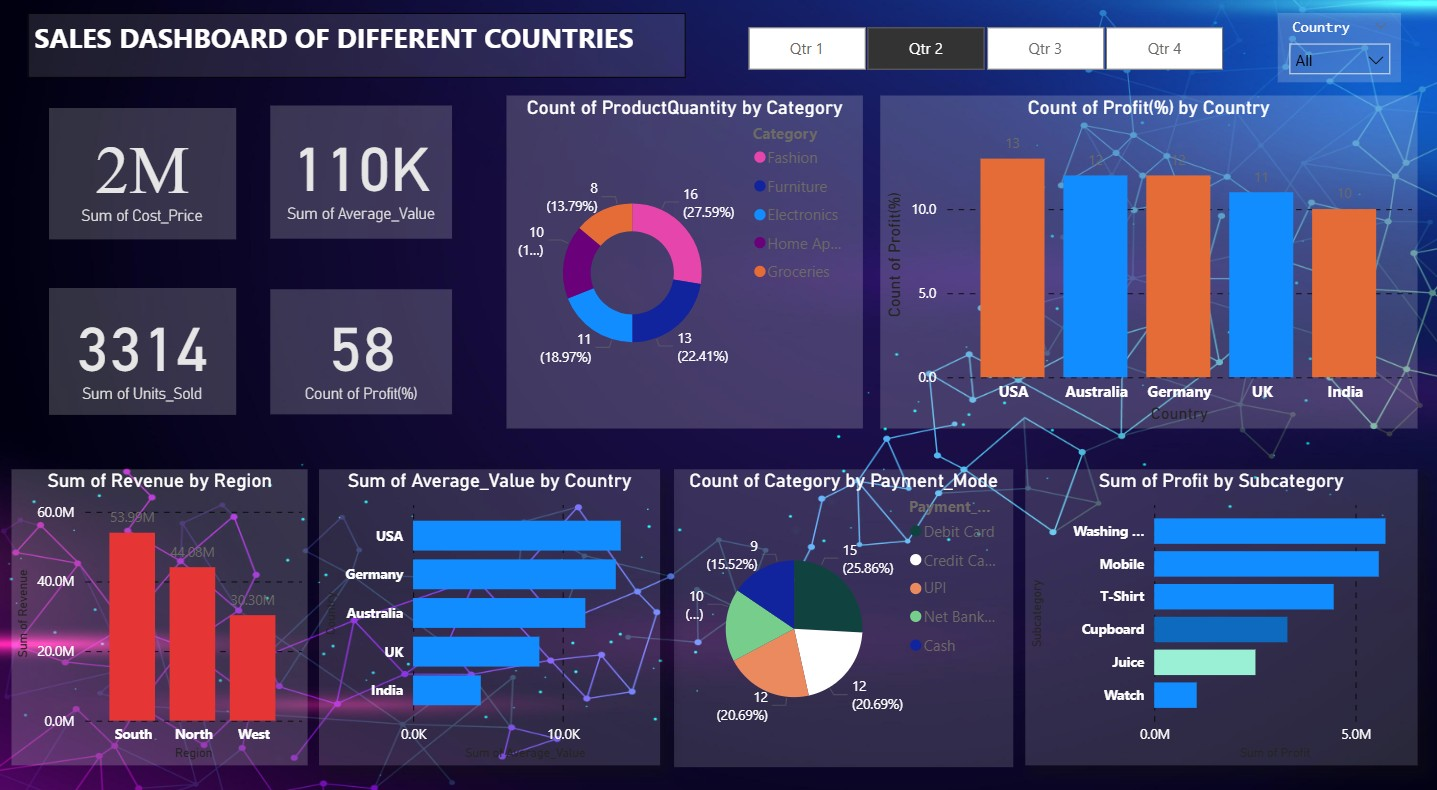

Layout of this report page (visuals, bound fields, positions):
{"tool":"powerbi","page":{"name":"Page 1","canvas":[1280,720],"ordinal":0},"visuals":[{"type":"textbox","box":[26.1,13.7,584.6,57.6],"z":0},{"type":"columnChart","fields":{"Y":["CountNonNull(Sheet1.Profit(%))"],"Category":["Sheet1.Country"]},"box":[783.5,86.4,477.5,296.4],"z":1000},{"type":"barChart","fields":{"Category":["Sheet1.Subcategory"],"Y":["Sum(Sheet1.Profit)"]},"box":[912.5,418.5,348.5,263.5],"z":2000},{"type":"donutChart","fields":{"Category":["Sheet1.Category"],"Y":["CountNonNull(Sheet1.ProductQuantity)"]},"box":[451.5,86.4,317,296.4],"z":3000},{"type":"pieChart","fields":{"Category":["Sheet1.Payment_Mode"],"Y":["CountNonNull(Sheet1.Category)"]},"box":[599.7,418.5,301.9,264.8],"z":4000},{"type":"card","fields":{"Values":["Sum(Sheet1.Cost_Price)"]},"box":[43.9,97.4,166,116.6],"z":5000},{"type":"card","fields":{"Values":["CountNonNull(Sheet1.Profit(%))"]},"box":[241.5,259.3,161.9,111.1],"z":6000},{"type":"card","fields":{"Values":["Sum(Sheet1.Units_Sold)"]},"box":[43.9,258,166,112.5],"z":7000},{"type":"card","fields":{"Values":["Sum(Sheet1.Average_Value)"]},"box":[241.5,96.1,161.9,118],"z":8000},{"type":"barChart","fields":{"Category":["Sheet1.Country"],"Y":["Sum(Sheet1.Average_Value)"]},"box":[284,418.5,303.3,263.5],"z":9000},{"type":"columnChart","fields":{"Y":["Sum(Sheet1.Revenue)"],"Category":["Sheet1.Region"]},"box":[11,418.5,263.5,263.5],"z":10000},{"type":"slicer","fields":{"Values":["Sheet1.Date.Variation.Date Hierarchy.Quarter"]},"box":[639.5,19.2,472,52.1],"z":11000},{"type":"slicer","fields":{"Values":["Sheet1.Country"]},"box":[1136.2,13.7,109.8,61.7],"z":12000}]}

Visuals, with their boxes in screenshot pixels (x1, y1, x2, y2), scaled from the page's 1280x720 canvas onto the 1437x790 screenshot:
textbox: {"x1": 29, "y1": 15, "x2": 686, "y2": 78}
columnChart - CountNonNull(Sheet1.Profit(%)) x Sheet1.Country: {"x1": 880, "y1": 95, "x2": 1416, "y2": 420}
barChart - Sheet1.Subcategory x Sum(Sheet1.Profit): {"x1": 1024, "y1": 459, "x2": 1416, "y2": 748}
donutChart - Sheet1.Category x CountNonNull(Sheet1.ProductQuantity): {"x1": 507, "y1": 95, "x2": 863, "y2": 420}
pieChart - Sheet1.Payment_Mode x CountNonNull(Sheet1.Category): {"x1": 673, "y1": 459, "x2": 1012, "y2": 750}
card - Sum(Sheet1.Cost_Price): {"x1": 49, "y1": 107, "x2": 236, "y2": 235}
card - CountNonNull(Sheet1.Profit(%)): {"x1": 271, "y1": 285, "x2": 453, "y2": 406}
card - Sum(Sheet1.Units_Sold): {"x1": 49, "y1": 283, "x2": 236, "y2": 407}
card - Sum(Sheet1.Average_Value): {"x1": 271, "y1": 105, "x2": 453, "y2": 235}
barChart - Sheet1.Country x Sum(Sheet1.Average_Value): {"x1": 319, "y1": 459, "x2": 659, "y2": 748}
columnChart - Sum(Sheet1.Revenue) x Sheet1.Region: {"x1": 12, "y1": 459, "x2": 308, "y2": 748}
slicer - Sheet1.Date.Variation.Date Hierarchy.Quarter: {"x1": 718, "y1": 21, "x2": 1248, "y2": 78}
slicer - Sheet1.Country: {"x1": 1276, "y1": 15, "x2": 1399, "y2": 83}
